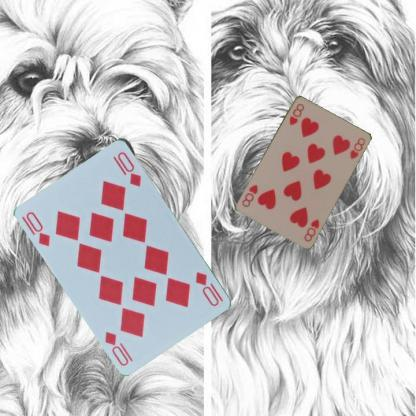10d: (23, 208, 52, 248), (193, 269, 221, 308)
8h: (286, 100, 306, 126), (302, 216, 320, 243)
